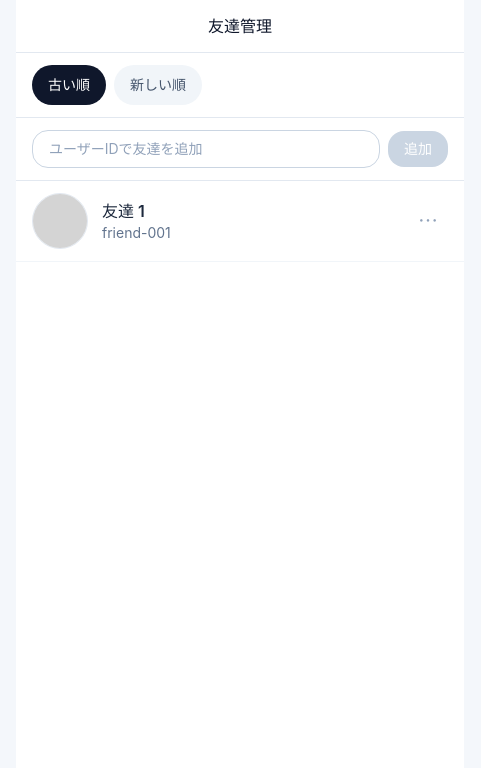
Test case: FriendsPage › 友達を追加したら一覧を取り直す
This screenshot has width=481, height=768.
expect the text "友達 1" is shown: met, box [102,201,145,221]
Type "friend-002" into the field labelled "ユーザーID" at coordinates (206, 149), box [32,130,380,168]
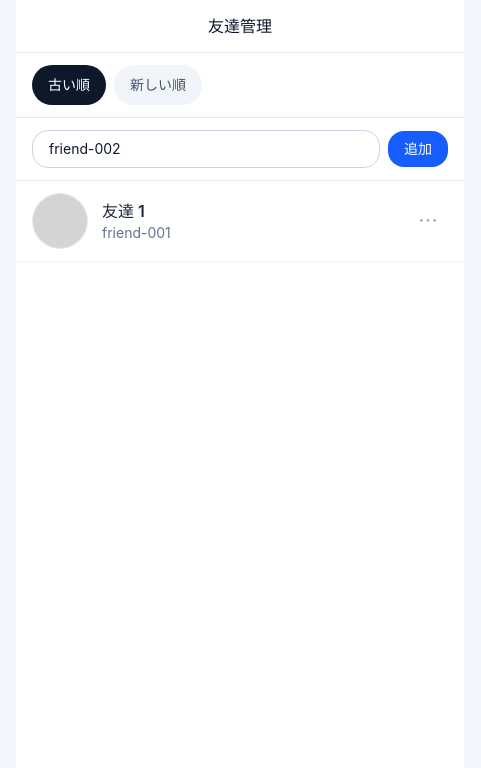
Click the button "追加" at coordinates (418, 149), box [388,131,448,167]
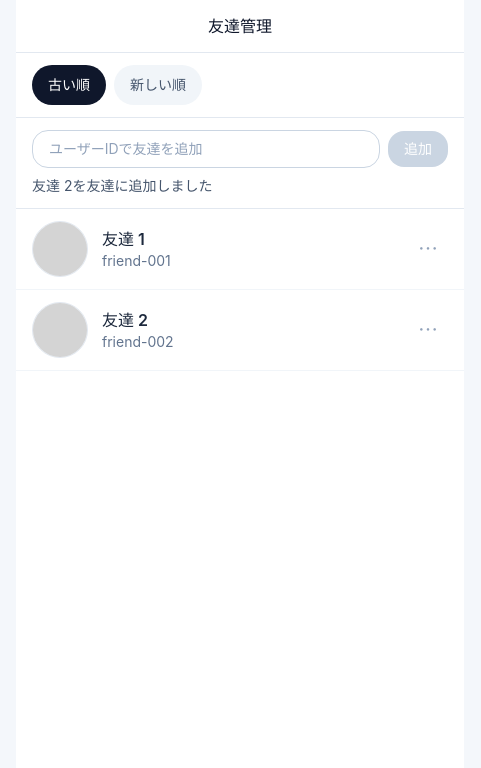
expect the text "友達 2" is shown: met, box [102,310,148,330]
